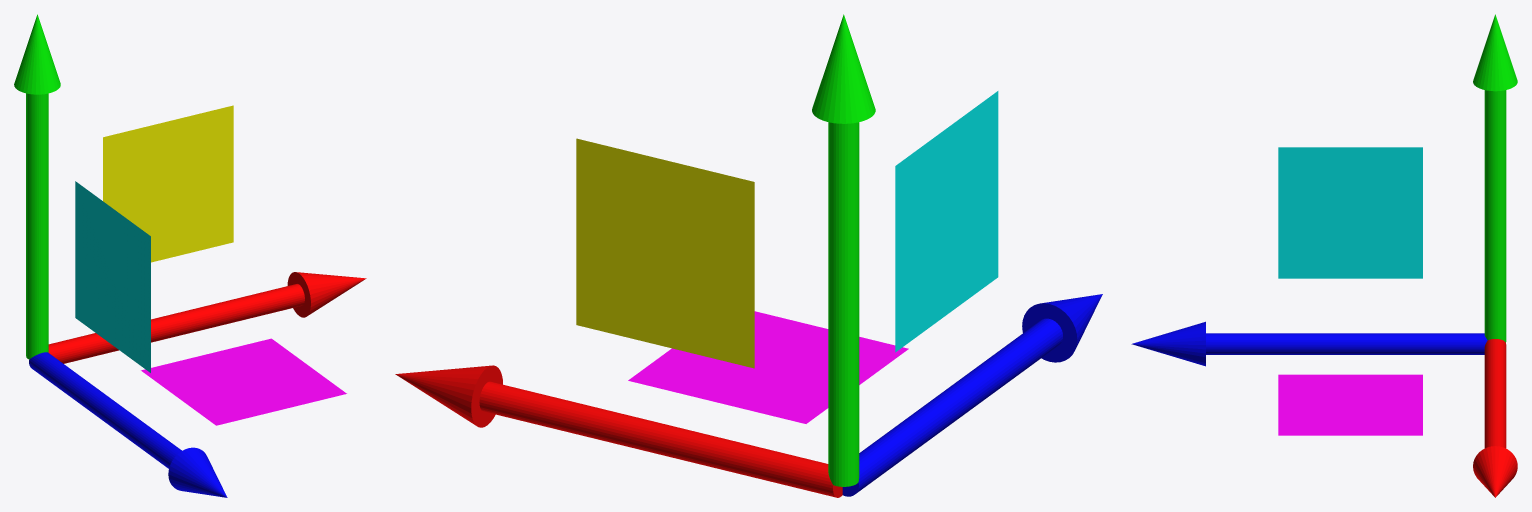
The model's file is gizmo_pos.glb.
3 renders of one model, left to right at view 1: azimuth 30°, elevation 25°; view 2: azimuth 150°, elevation 25°; view 3: azimuth 270°, elevation 25°, orthographic. The views are drawn at different scales.
Visible parts, largest first — view 1: xy plane, yz plane, xz plane, y pos, x pos, z pos; view 2: xy plane, yz plane, y pos, x pos, xz plane, z pos; view 3: yz plane, xz plane, z pos, y pos, x pos.
Boxes of the visible parts, x1,y1,x2,y2 form: xy plane: (103, 105, 233, 262); yz plane: (75, 181, 150, 372); xz plane: (141, 338, 346, 425); y pos: (14, 14, 60, 359); x pos: (48, 272, 366, 363); z pos: (29, 352, 227, 497); xy plane: (576, 138, 754, 368); yz plane: (895, 91, 998, 352); y pos: (812, 14, 875, 486); x pos: (395, 365, 842, 497); xz plane: (628, 311, 908, 423); z pos: (842, 294, 1102, 496); yz plane: (1278, 147, 1422, 278); xz plane: (1278, 374, 1422, 435); z pos: (1131, 321, 1487, 366); y pos: (1473, 14, 1517, 342); x pos: (1473, 339, 1517, 497).
Bounding box in the file's own units: 1.07 × 1.07 × 1.07.
